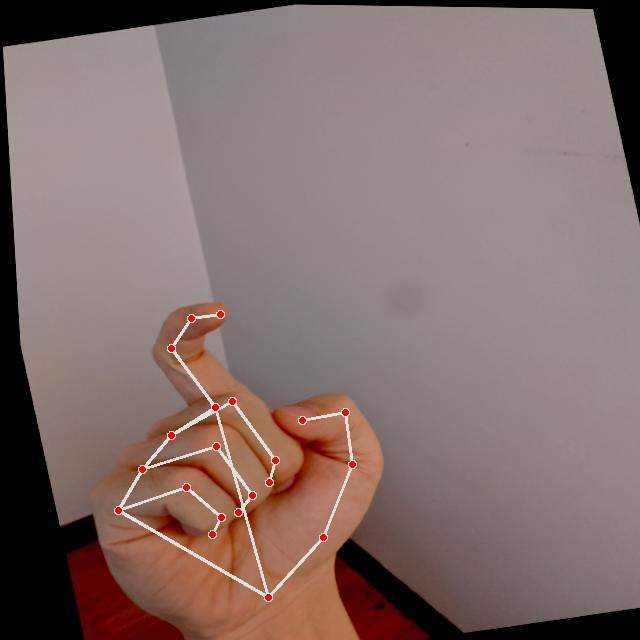X: (36, 272, 420, 639)
